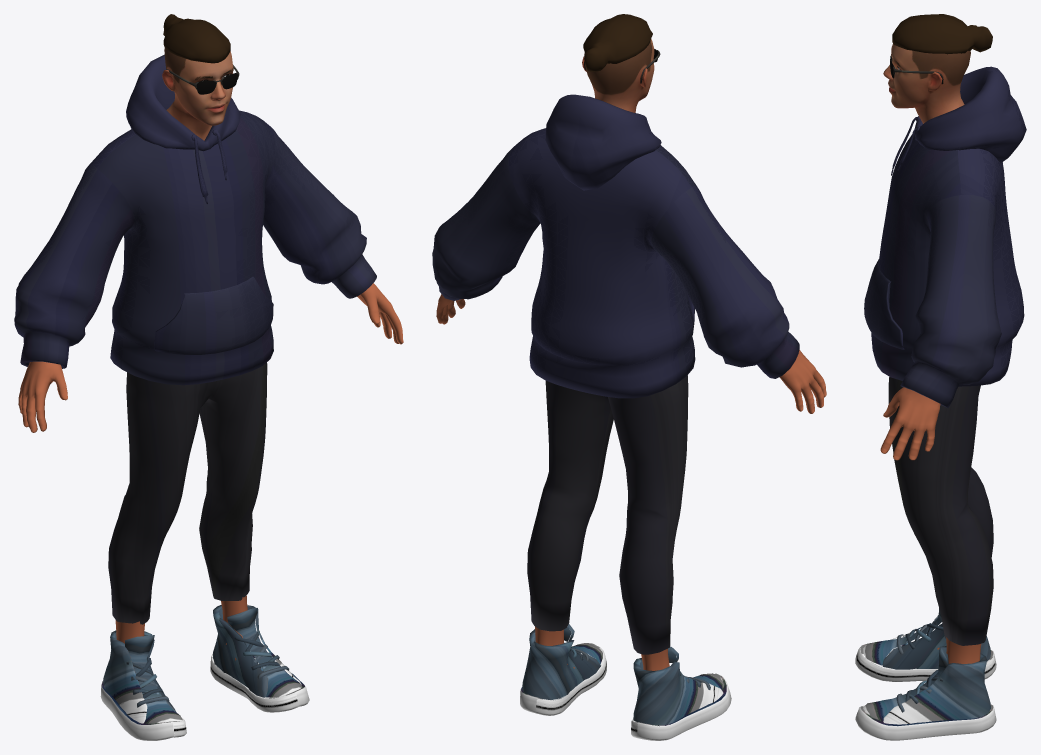
The picture shows the model from 3 angles, left to right: view 1: azimuth 30°, elevation 25°; view 2: azimuth 150°, elevation 25°; view 3: azimuth 270°, elevation 25°; orthographic projection.
Parts seen in each view (by area): view 1: Wolf3D_Outfit_Top, Wolf3D_Outfit_Bottom, Wolf3D_Outfit_Footwear, Wolf3D_Body, Wolf3D_Head, Wolf3D_Hair; view 2: Wolf3D_Outfit_Top, Wolf3D_Outfit_Bottom, Wolf3D_Outfit_Footwear, Wolf3D_Body, Wolf3D_Hair, Wolf3D_Head; view 3: Wolf3D_Outfit_Top, Wolf3D_Outfit_Bottom, Wolf3D_Outfit_Footwear, Wolf3D_Head, Wolf3D_Body, Wolf3D_Hair.
Part boxes in pixels (<box>): Wolf3D_Outfit_Top: <box>14,54,376,385</box>; Wolf3D_Outfit_Bottom: <box>108,362,267,624</box>; Wolf3D_Outfit_Footwear: <box>100,605,309,740</box>; Wolf3D_Body: <box>18,283,403,660</box>; Wolf3D_Head: <box>162,48,233,140</box>; Wolf3D_Hair: <box>163,14,230,63</box>; Wolf3D_Outfit_Top: <box>432,94,799,398</box>; Wolf3D_Outfit_Bottom: <box>527,375,688,654</box>; Wolf3D_Outfit_Footwear: <box>520,624,731,740</box>; Wolf3D_Body: <box>436,294,826,670</box>; Wolf3D_Hair: <box>583,14,652,71</box>; Wolf3D_Head: <box>582,39,654,112</box>; Wolf3D_Outfit_Top: <box>864,66,1026,408</box>; Wolf3D_Outfit_Bottom: <box>888,377,993,645</box>; Wolf3D_Outfit_Footwear: <box>855,608,996,740</box>; Wolf3D_Head: <box>883,44,970,123</box>; Wolf3D_Body: <box>880,387,981,663</box>; Wolf3D_Hair: <box>892,14,992,54</box>.
Bounding box in the file's own units: 1.06 × 1.86 × 0.4206.
Materials: 10 (10 with a texture image).
